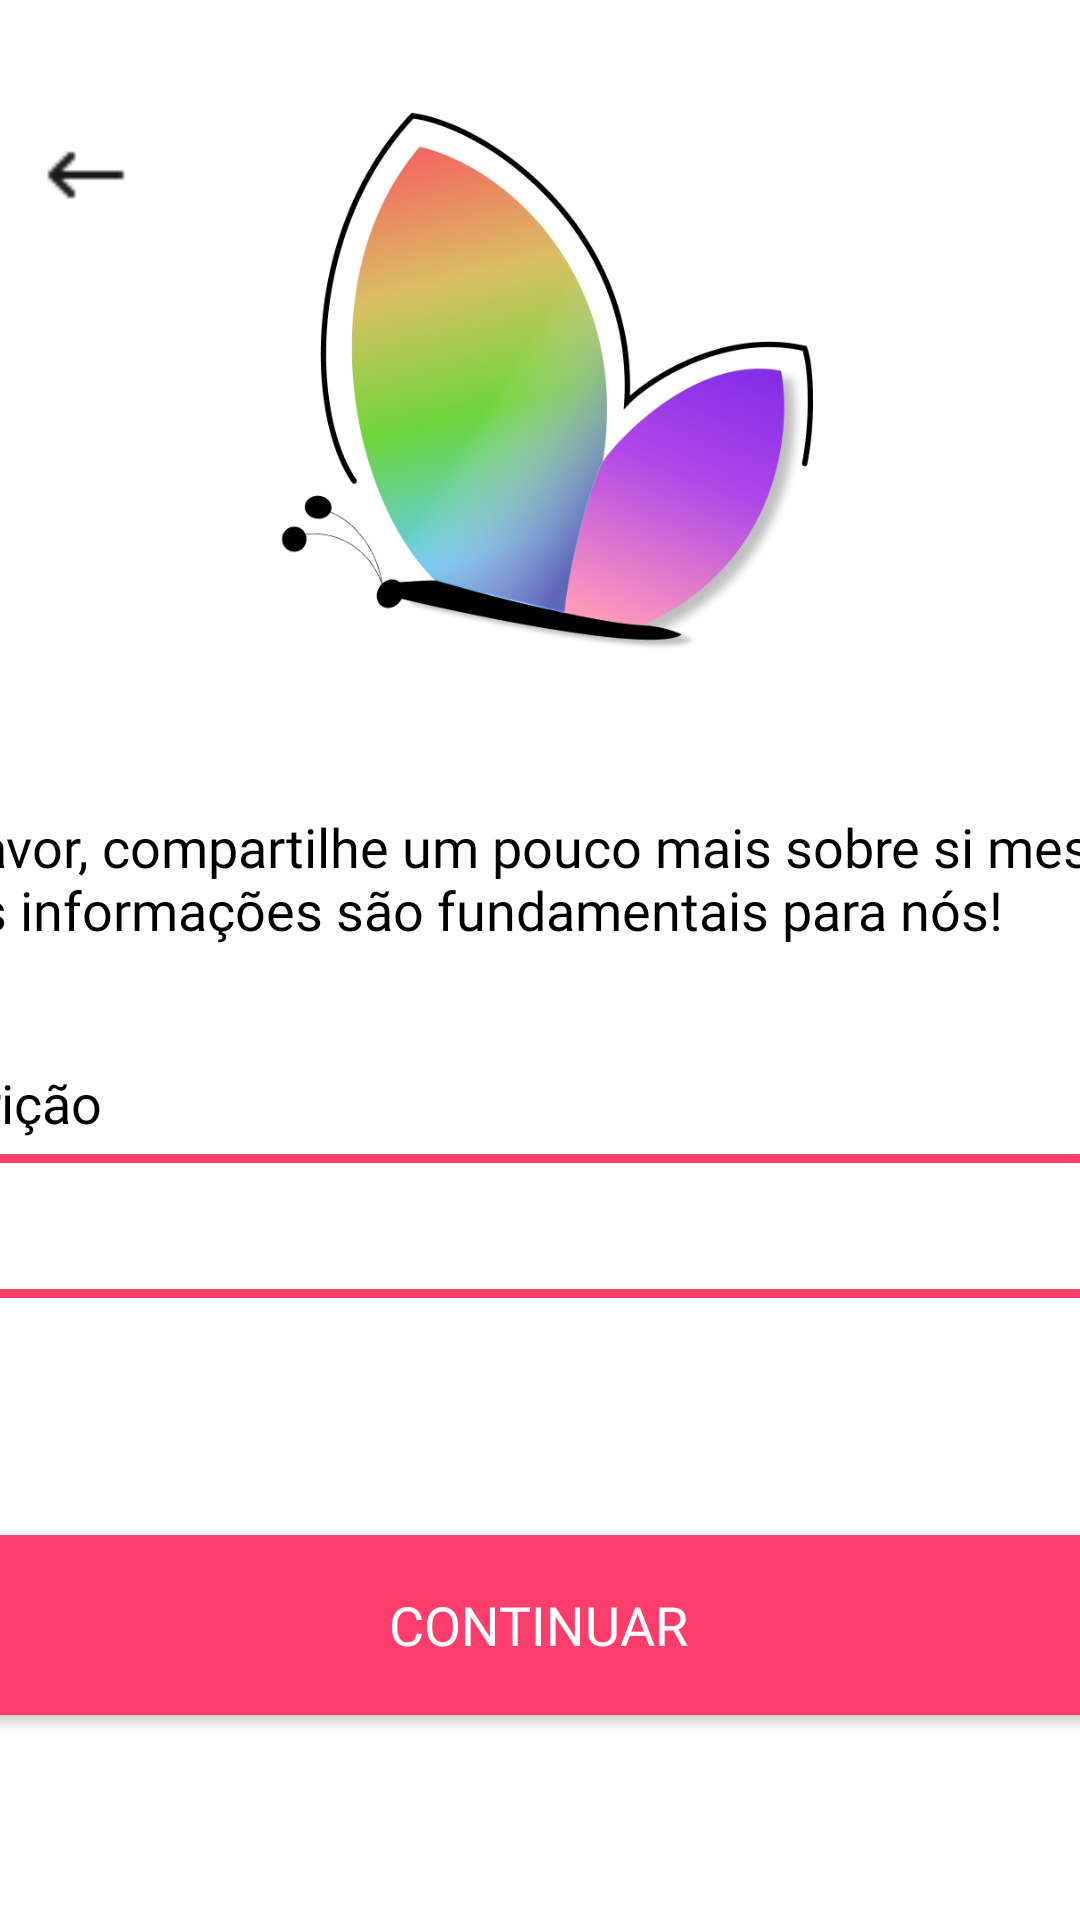

Icon bounding boxes for this 1080px×1920px phone screenshot, format [x1=x1, y1=y1, x2=x2, y2=y2]:
voltar seta: [x1=47, y1=151, x2=125, y2=199]
